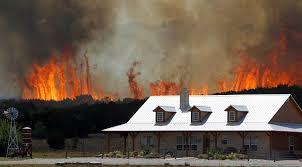fire: (22, 54, 118, 104), (213, 40, 298, 93), (128, 68, 207, 95)
yanwu: (6, 0, 301, 77)
